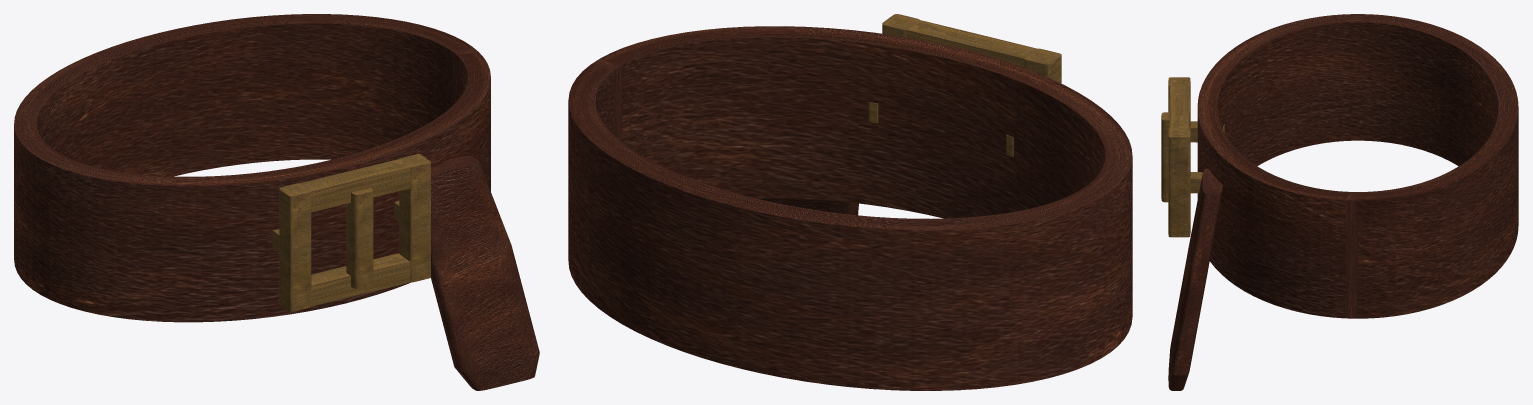
The model's file is strap.obj.
3 renders of one model, left to right at view 1: azimuth 30°, elevation 25°; view 2: azimuth 150°, elevation 25°; view 3: azimuth 270°, elevation 25°, orthographic. The views are drawn at different scales.
Parts seen in each view (by area): view 1: belt, tail, buckle_left, buckle_right, buckle_high, pin, buckle_low; view 2: belt, buckle_high, buckle_left, tail, buckle_right; view 3: belt, tail, buckle_right, buckle_high, pin.
Part boxes in pixels (left/top/right/bottom): belt: left=14, top=14, right=490, bottom=322; tail: left=431, top=156, right=539, bottom=390; buckle_left: left=279, top=183, right=311, bottom=311; buckle_right: left=399, top=154, right=430, bottom=282; buckle_high: left=284, top=156, right=425, bottom=212; pin: left=346, top=187, right=373, bottom=288; buckle_low: left=311, top=253, right=410, bottom=306; belt: left=568, top=26, right=1132, bottom=390; buckle_high: left=888, top=16, right=1055, bottom=67; buckle_left: left=1024, top=48, right=1061, bottom=83; tail: left=758, top=198, right=858, bottom=215; buckle_right: left=882, top=14, right=919, bottom=37; belt: left=1197, top=14, right=1518, bottom=318; tail: left=1168, top=168, right=1222, bottom=390; buckle_right: left=1168, top=128, right=1190, bottom=237; buckle_high: left=1169, top=78, right=1189, bottom=135; pin: left=1161, top=112, right=1169, bottom=202.
Size of the model in its own units: 100 by 52.27 by 80.91.
Materials: 2 (2 with a texture image).
